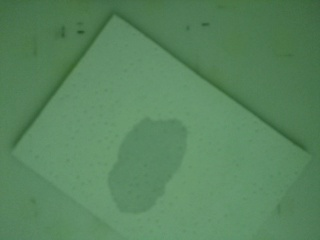Water_detected: (126, 131, 186, 197)
